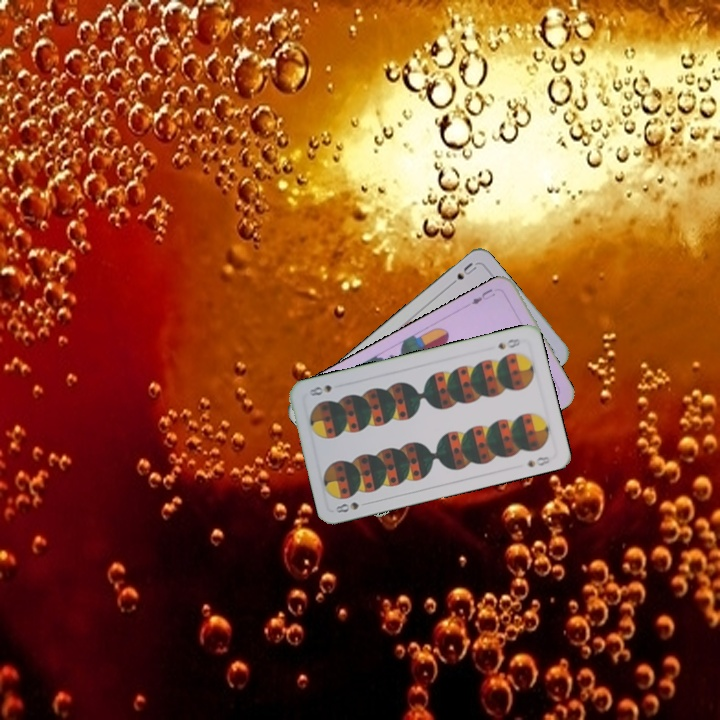EU: (468, 285, 498, 307)
S8: (332, 498, 372, 515), (493, 334, 522, 352)
SU: (444, 258, 479, 290)
